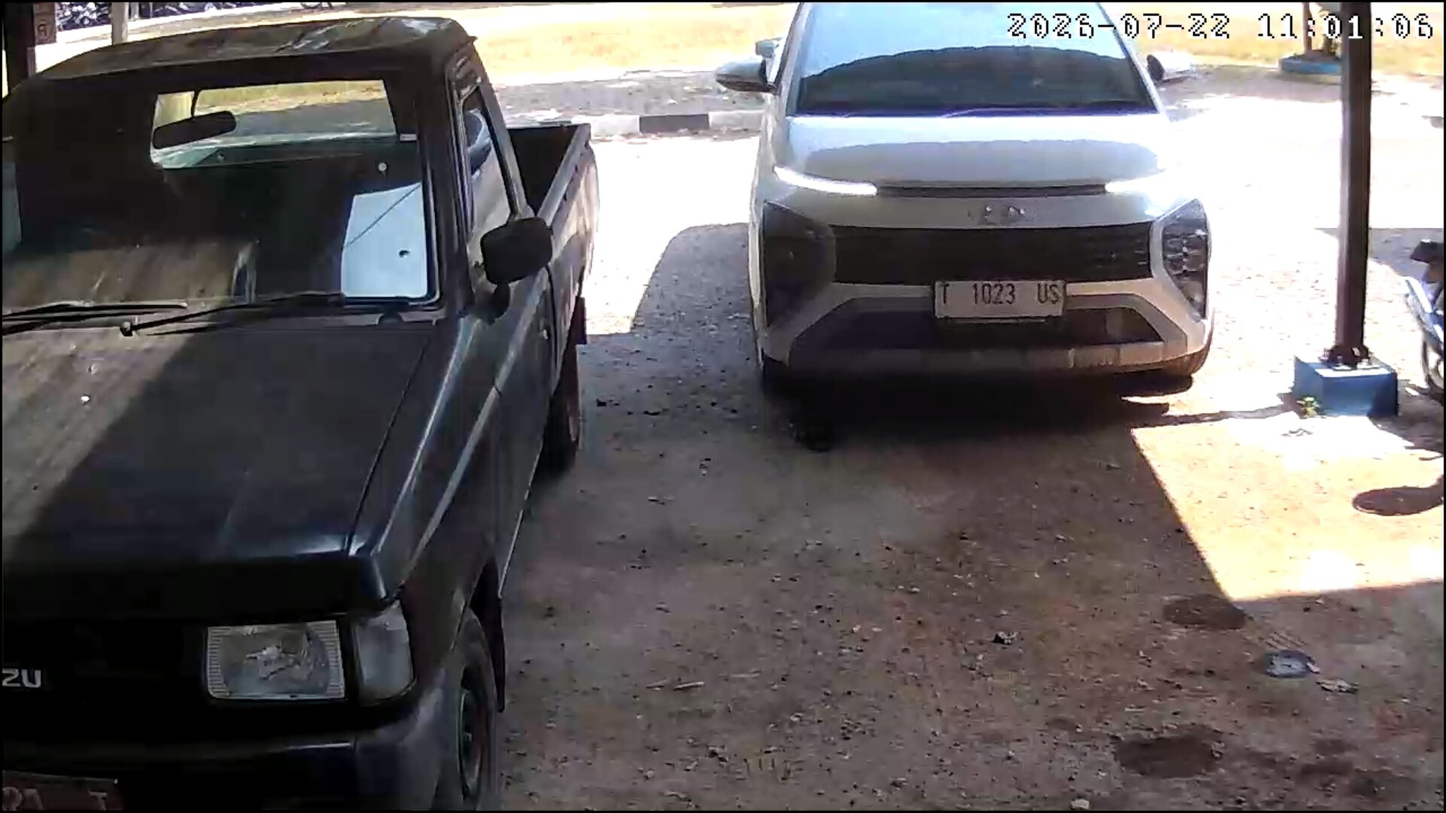plat nomor: (933, 280, 1065, 320)
